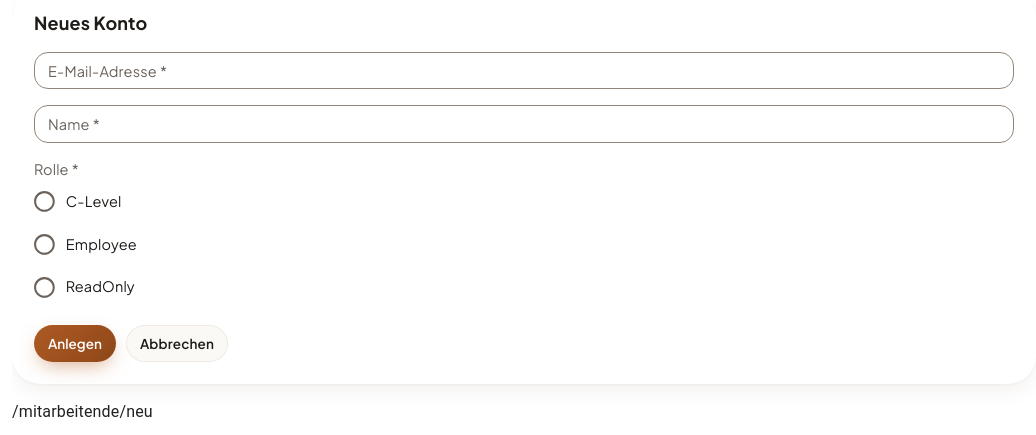
it: MitarbeiterMaske — Anlegen › sagt, wenn keine Begruessungsmail hinausging, und bleibt stehen
This screenshot has width=1036, height=435.
Type "anna@firma.de" into the field labelled "E-Mail-Adresse *".
click(524, 70); type("anna@firma.de")  # box [34,52,1014,89]
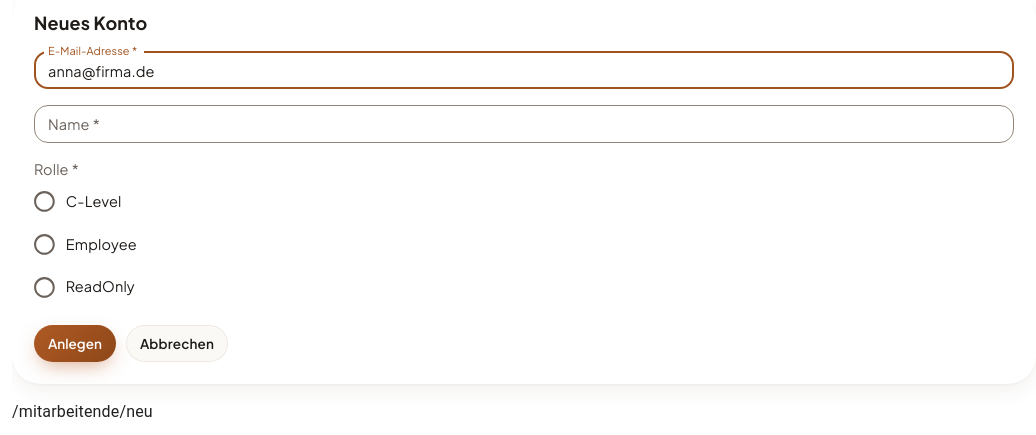
Type "Anna Berg" into the field labelled "Name *".
click(524, 124); type("Anna Berg")  # box [34,105,1014,143]
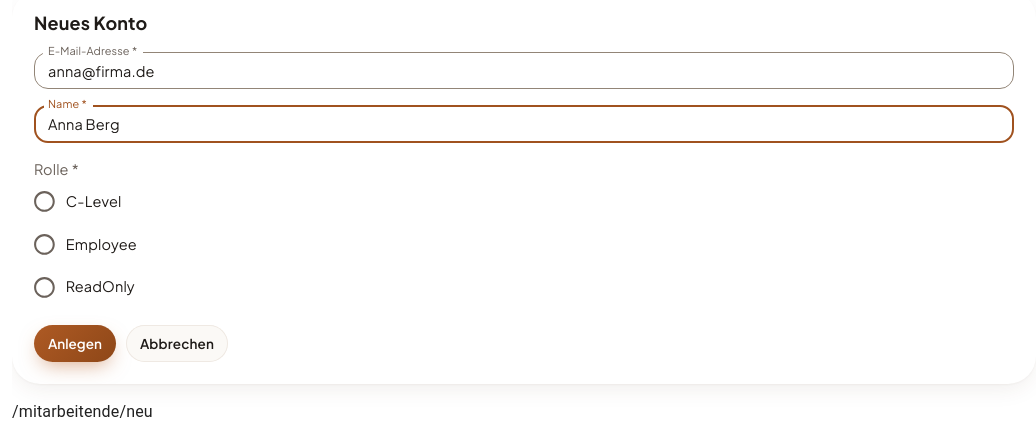
Click the radio button labelled "Employee".
click(84, 244)  # box [32,232,137,257]
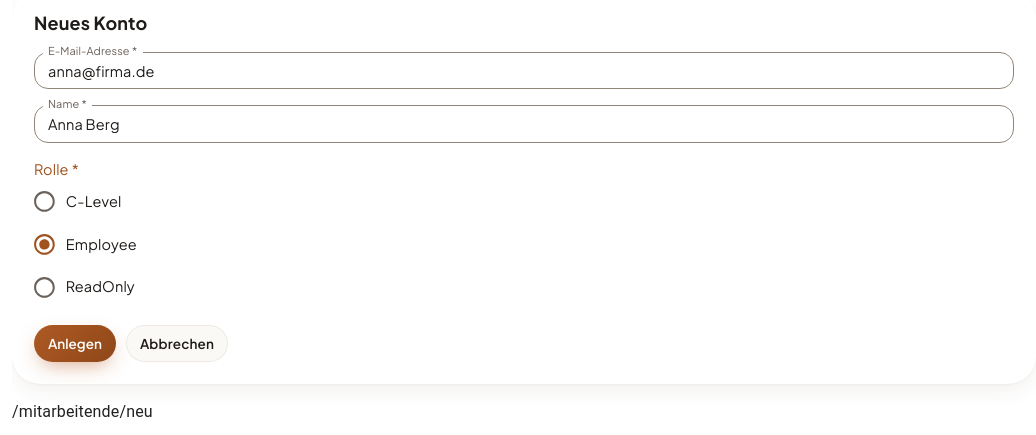
Click the button "Anlegen".
click(75, 344)  # box [34,325,116,362]
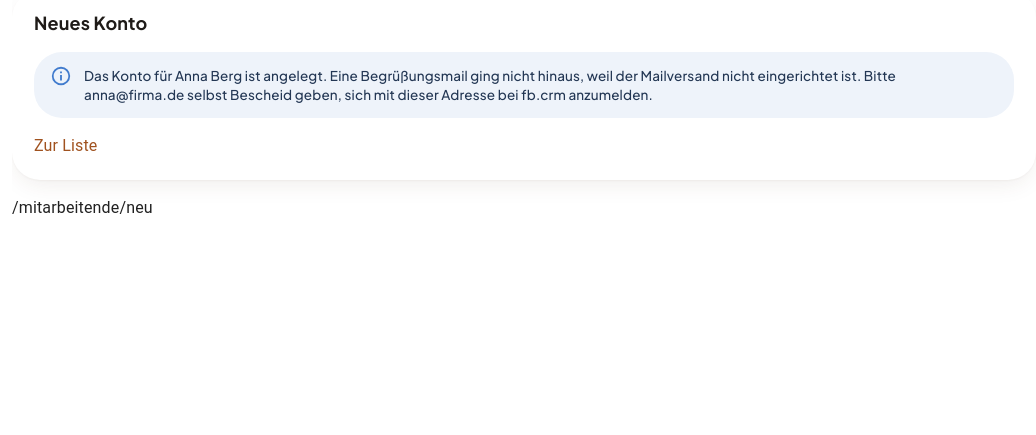
Expected: the text with test id "adresse" reads "/mitarbeitende/neu", [12,198,153,217]
Expected: the message shows "Das Konto für Anna Berg ist angelegt. Eine Begrüßungsmail ging nicht hinaus", [84,67,896,103]
